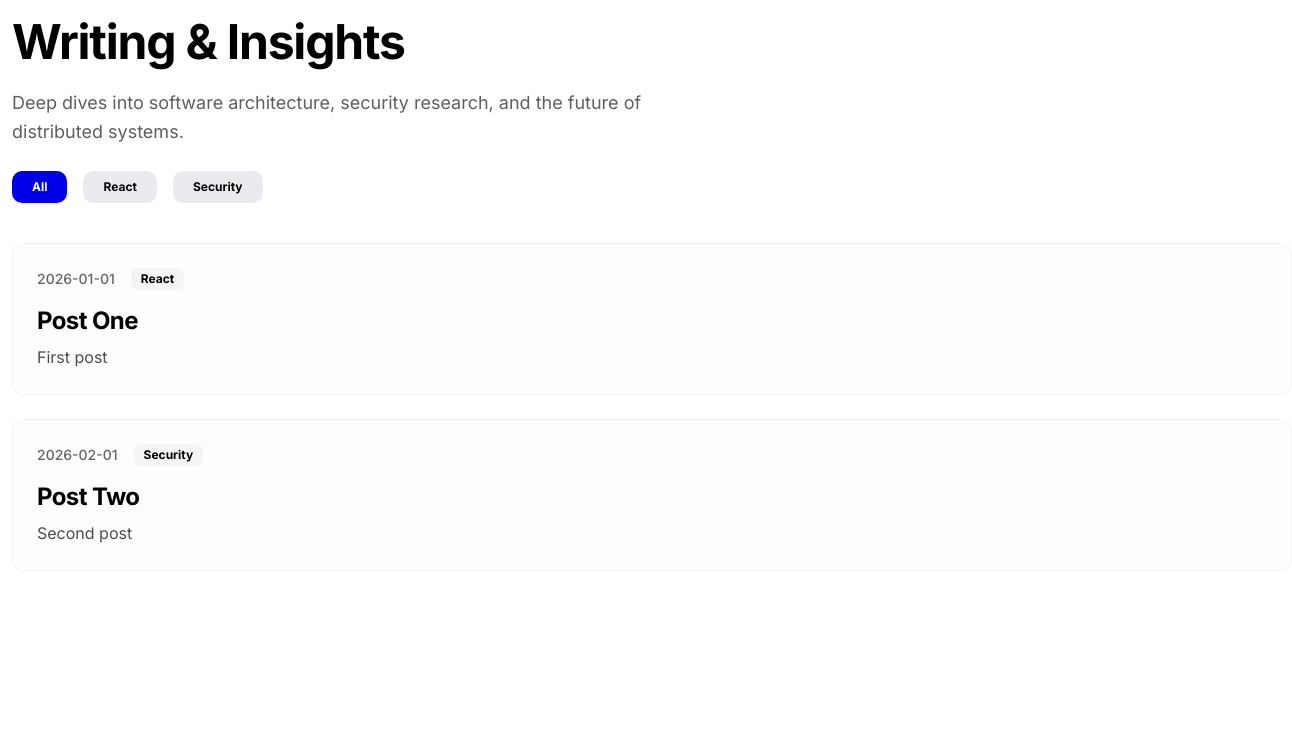
Test: BlogList wrapper wiring › filters by article.tags through getTags
Click the text with class "cursor-pointer": [218, 186] box left=173, top=170, right=262, bottom=202
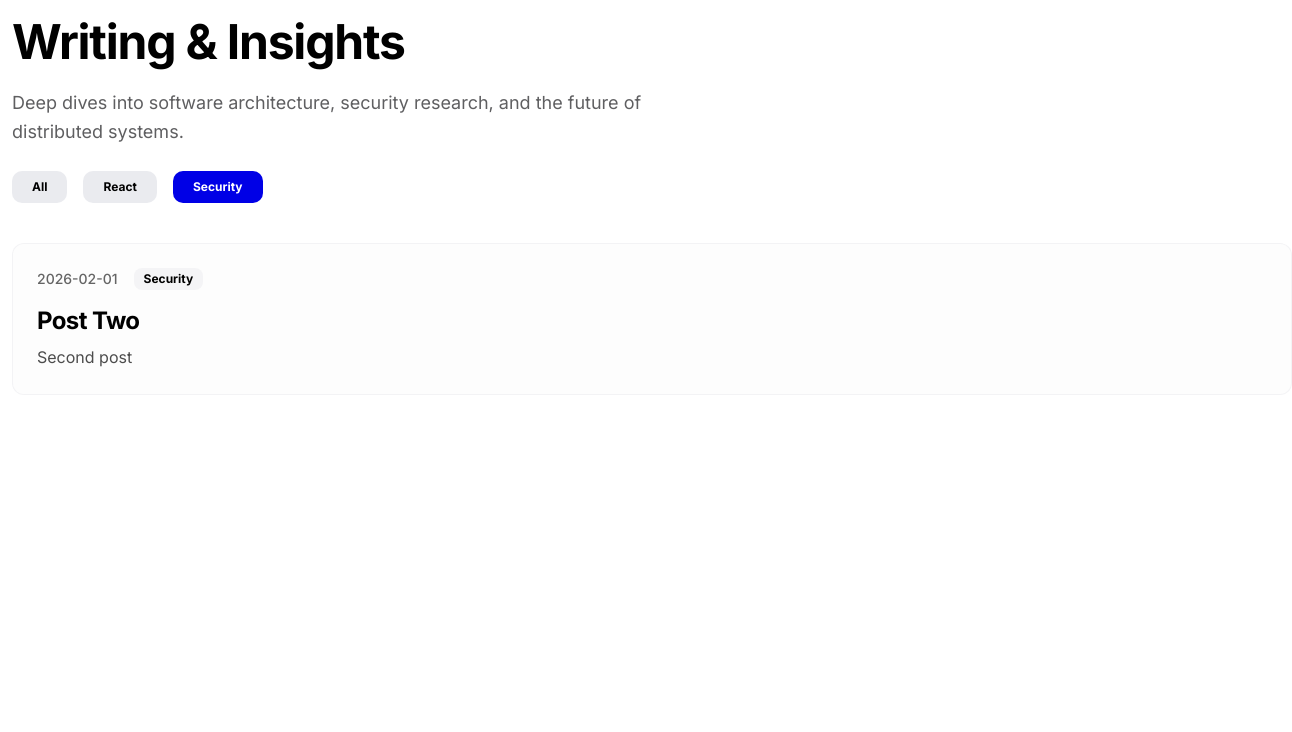
Expected: the heading "Post Two" is shown, left=37, top=306, right=140, bottom=334
Expected: the link "Post One" is gone
